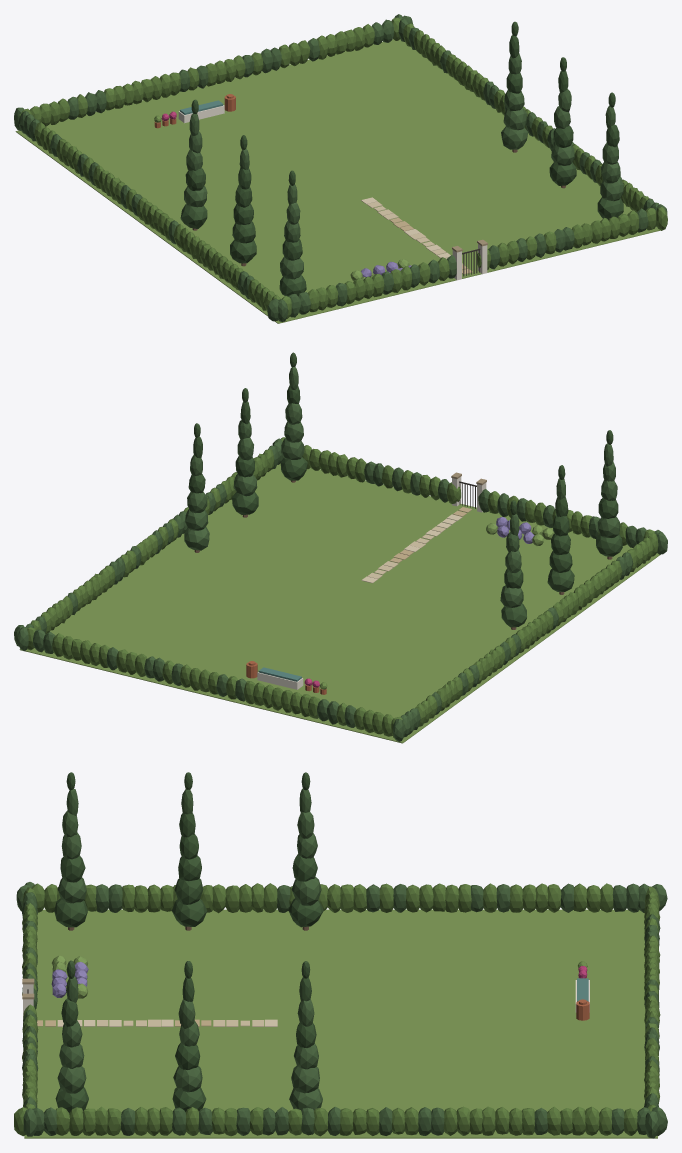
Rendered from bahce-arsasi-servili.glb.
3 renders of one model, top to bottom at view 1: azimuth 30°, elevation 25°; view 2: azimuth 150°, elevation 25°; view 3: azimuth 270°, elevation 25°, orthographic. The views are drawn at different scales.
Parts seen in each view (by area): view 1: cim, servi2, cit, yaprak2, servi, badana, tas1; view 2: cim, servi2, cit, yaprak2, servi, badana; view 3: cim, servi2, cit, yaprak2, servi, tas1, lavanta.
Boxes of the visible parts, x1=… form: cim: x1=15, y1=39, x2=660, y2=323; servi2: x1=14, y1=14, x2=667, y2=321; cit: x1=30, y1=24, x2=667, y2=318; yaprak2: x1=19, y1=17, x2=638, y2=312; servi: x1=180, y1=21, x2=623, y2=296; badana: x1=178, y1=105, x2=487, y2=280; tas1: x1=367, y1=201, x2=446, y2=255; cim: x1=19, y1=463, x2=660, y2=743; servi2: x1=14, y1=367, x2=667, y2=741; cit: x1=41, y1=437, x2=658, y2=736; yaprak2: x1=27, y1=445, x2=627, y2=738; servi: x1=188, y1=352, x2=622, y2=627; badana: x1=257, y1=476, x2=486, y2=689; cim: x1=24, y1=909, x2=657, y2=1138; servi2: x1=16, y1=788, x2=667, y2=1138; cit: x1=14, y1=883, x2=660, y2=1136; yaprak2: x1=22, y1=883, x2=660, y2=1136; servi: x1=54, y1=772, x2=323, y2=1113; tas1: x1=97, y1=1019, x2=264, y2=1026; lavanta: x1=51, y1=962, x2=88, y2=997.
Bounding box in the file's own units: 23.94 × 7.5 × 27.86.
